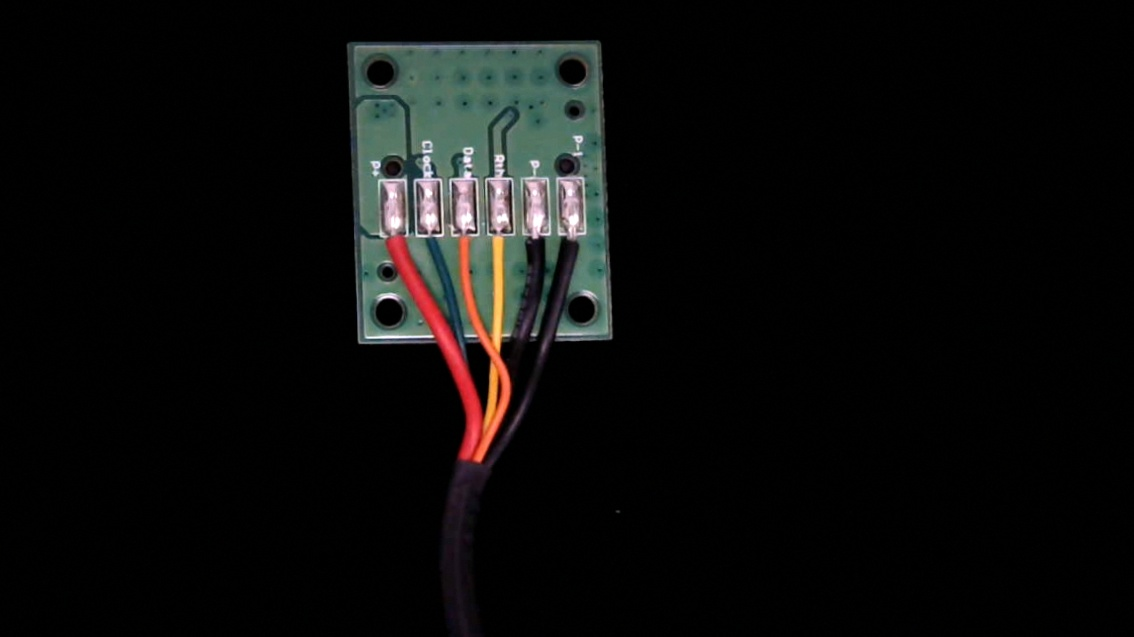Black: (519, 223, 554, 281)
Black1: (558, 221, 590, 282)
Green: (416, 220, 444, 274)
Orange: (450, 222, 480, 278)
Red: (379, 223, 410, 276)
Yellow: (485, 222, 516, 282)
